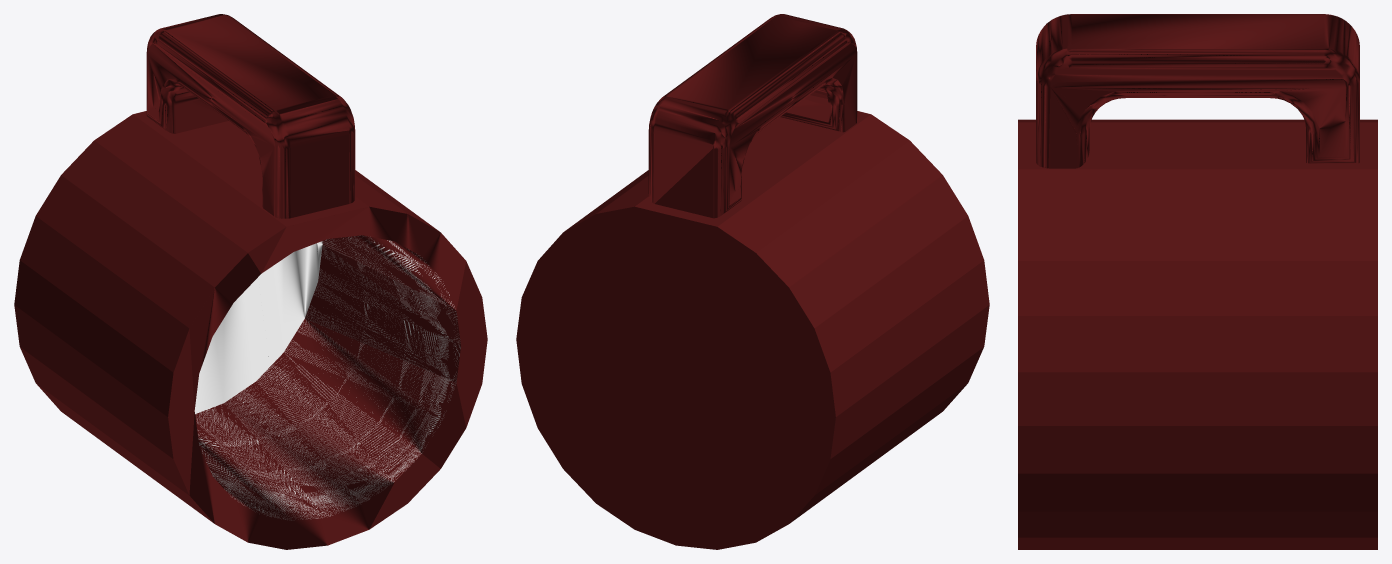
Rendered from model_align.obj.
3 renders of one model, left to right at view 1: azimuth 30°, elevation 25°; view 2: azimuth 150°, elevation 25°; view 3: azimuth 270°, elevation 25°, orthographic. The views are drawn at different scales.
Bounding box in the file's own units: 0.0914 × 0.1166 × 0.0762.
